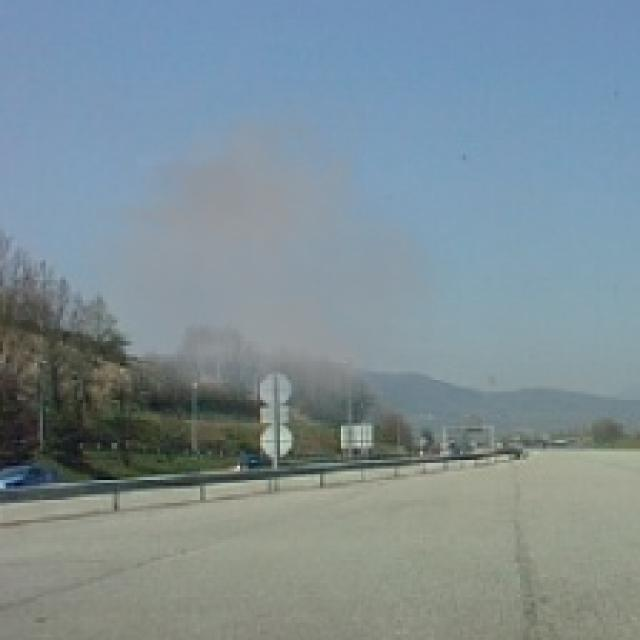smoke: (60, 77, 463, 426)
